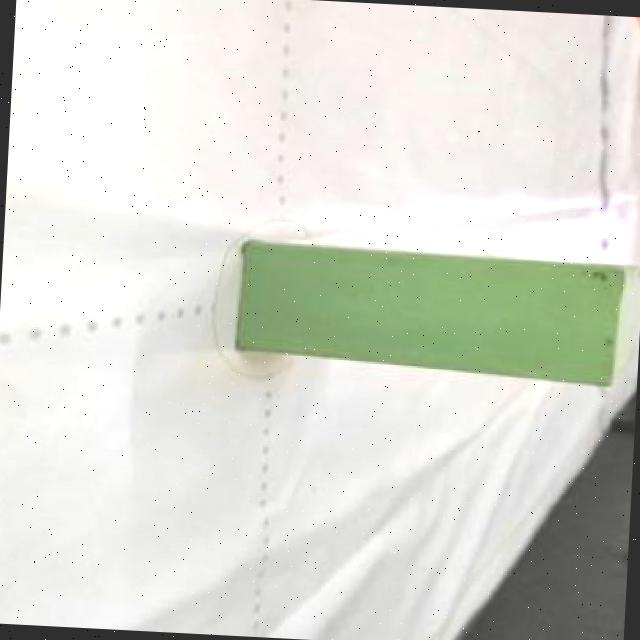greenbox: (231, 241, 640, 388)
